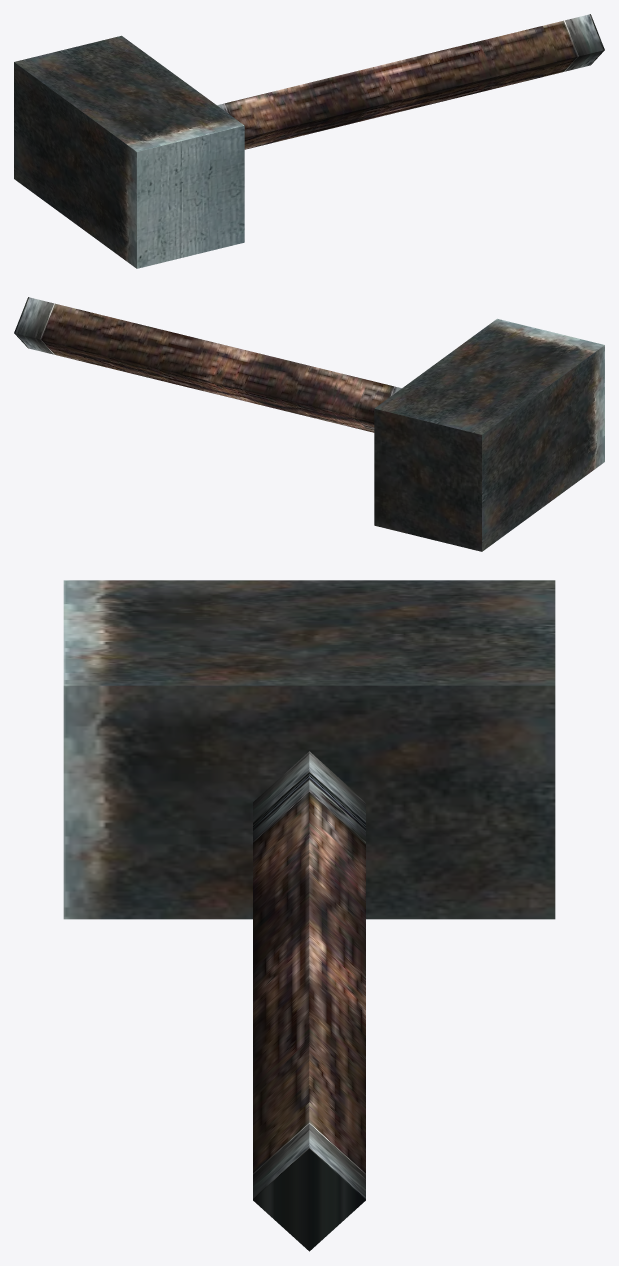
File: ITMW_010_1H_SLEDGEHAMMER_01.glb
3 renders of one model, top to bottom at view 1: azimuth 30°, elevation 25°; view 2: azimuth 150°, elevation 25°; view 3: azimuth 270°, elevation 25°, orthographic. The views are drawn at different scales.
Visible parts, largest first — view 1: ITMW_010_1H_SLEDGEHAMMER_01; view 2: ITMW_010_1H_SLEDGEHAMMER_01; view 3: ITMW_010_1H_SLEDGEHAMMER_01.
Part boxes in pixels (left/top/right/bottom): ITMW_010_1H_SLEDGEHAMMER_01: left=14, top=14, right=604, bottom=268; ITMW_010_1H_SLEDGEHAMMER_01: left=14, top=297, right=604, bottom=551; ITMW_010_1H_SLEDGEHAMMER_01: left=63, top=580, right=555, bottom=1251.
Bounding box in the file's own units: 0.4842 × 0.105 × 0.2.
Materials: 2 (2 with a texture image).
